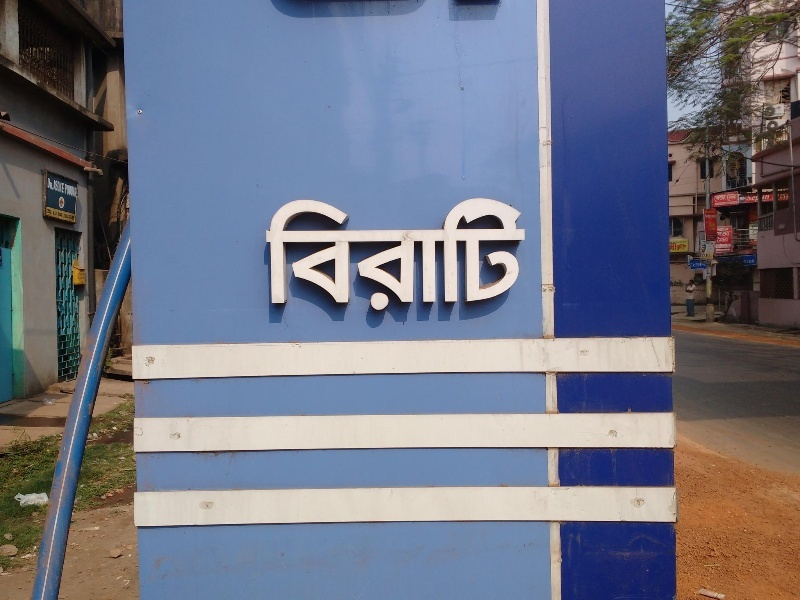text: (273, 189, 288, 329), (289, 189, 304, 329), (305, 189, 320, 329), (321, 189, 336, 329), (337, 189, 352, 329), (353, 189, 368, 329), (369, 189, 384, 329), (385, 189, 400, 329), (401, 189, 416, 329), (417, 189, 432, 329), (433, 189, 448, 329), (449, 189, 464, 329), (465, 189, 480, 329), (481, 189, 496, 329), (497, 189, 512, 329), (513, 189, 528, 329), (260, 189, 272, 329), (529, 189, 536, 329), (49, 172, 64, 228), (65, 172, 80, 228), (43, 172, 48, 228)
